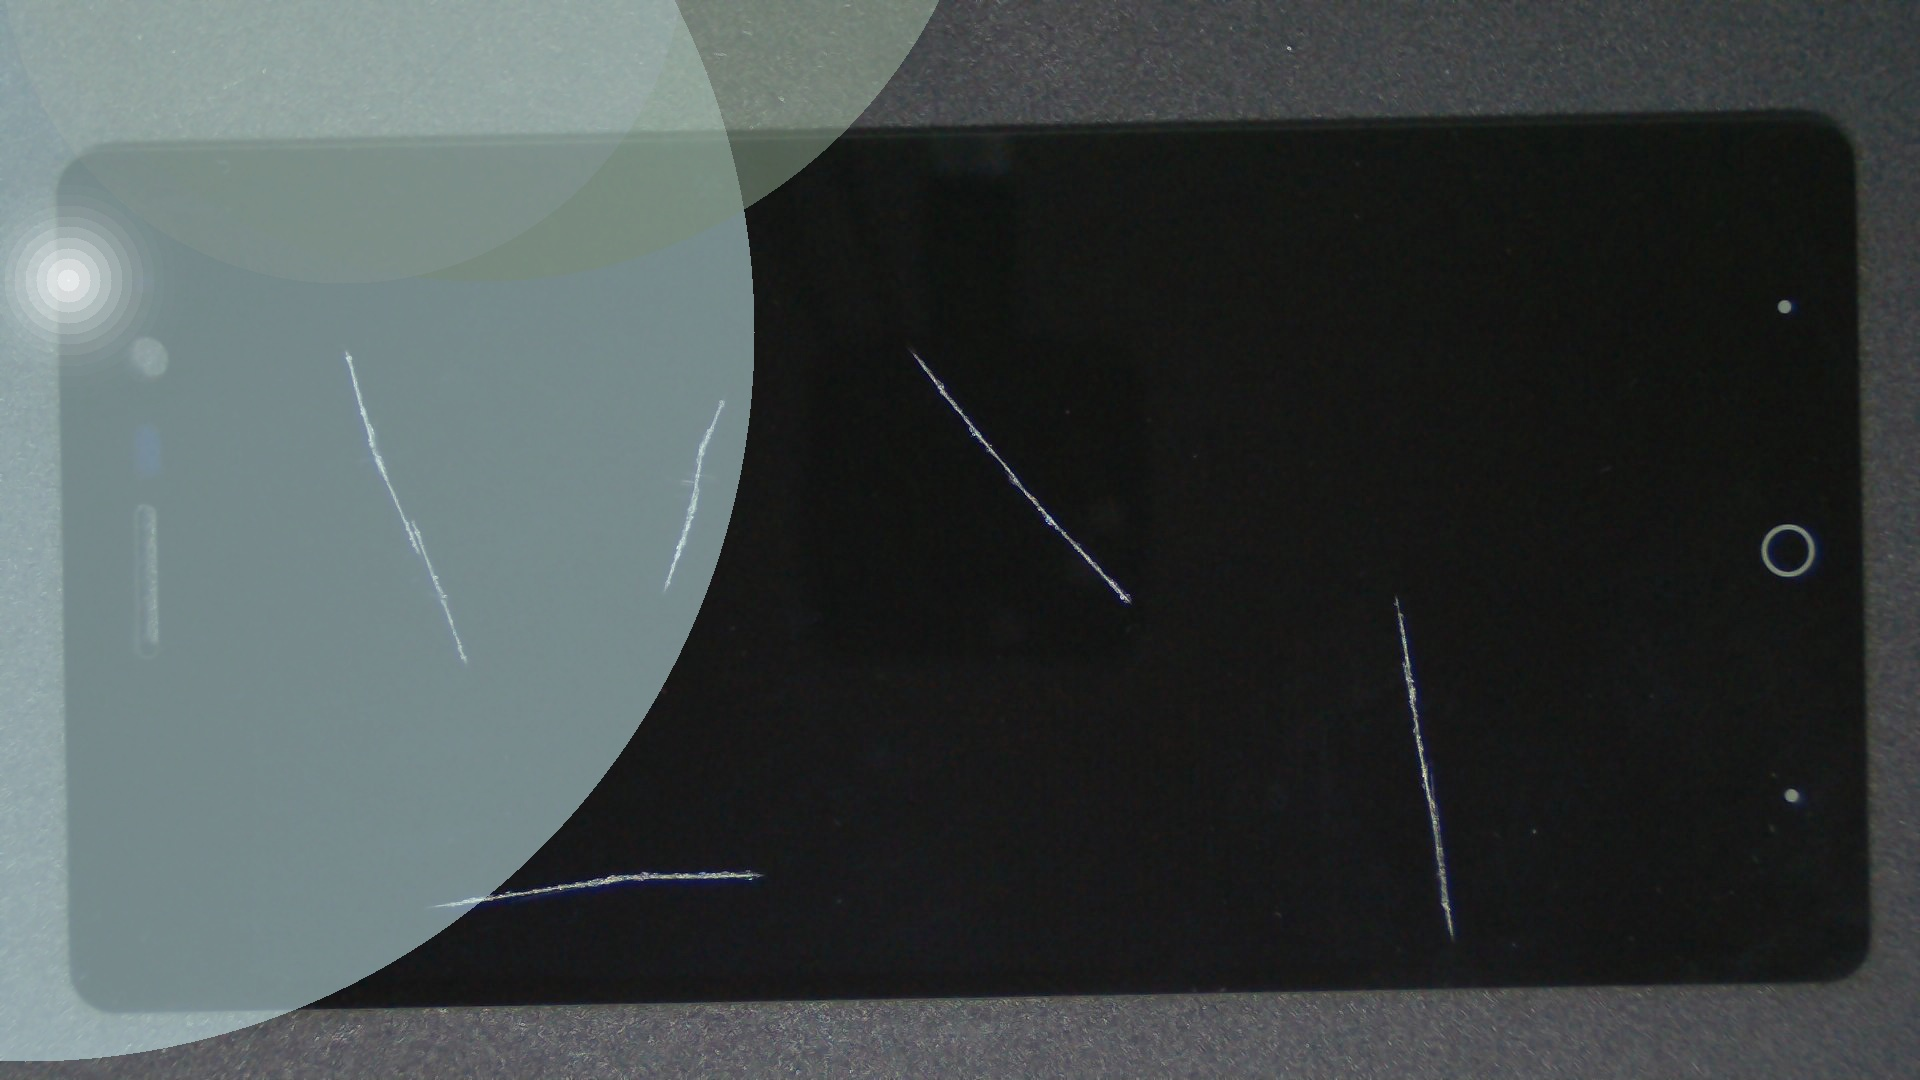oil: (698, 294, 1920, 894), (376, 434, 1125, 1080), (455, 174, 1364, 525), (361, 199, 1081, 597), (174, 174, 520, 524)
